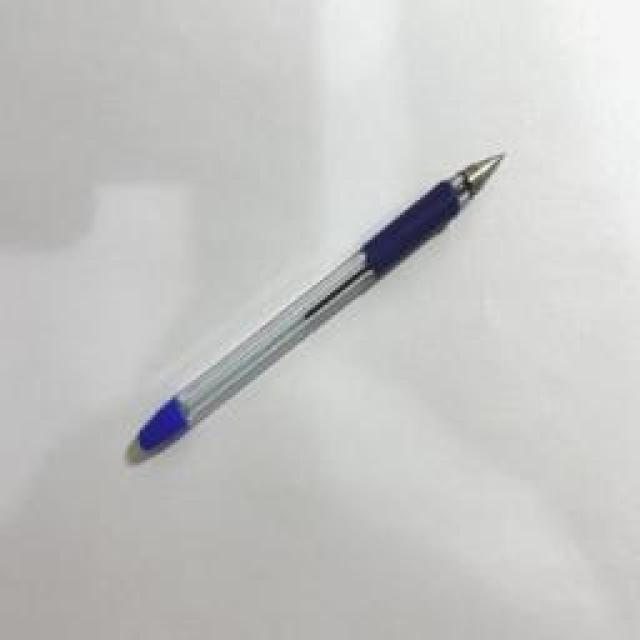pen: (135, 145, 508, 455)
